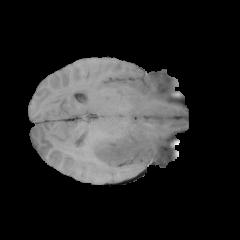glioma: (77, 133, 151, 165)
